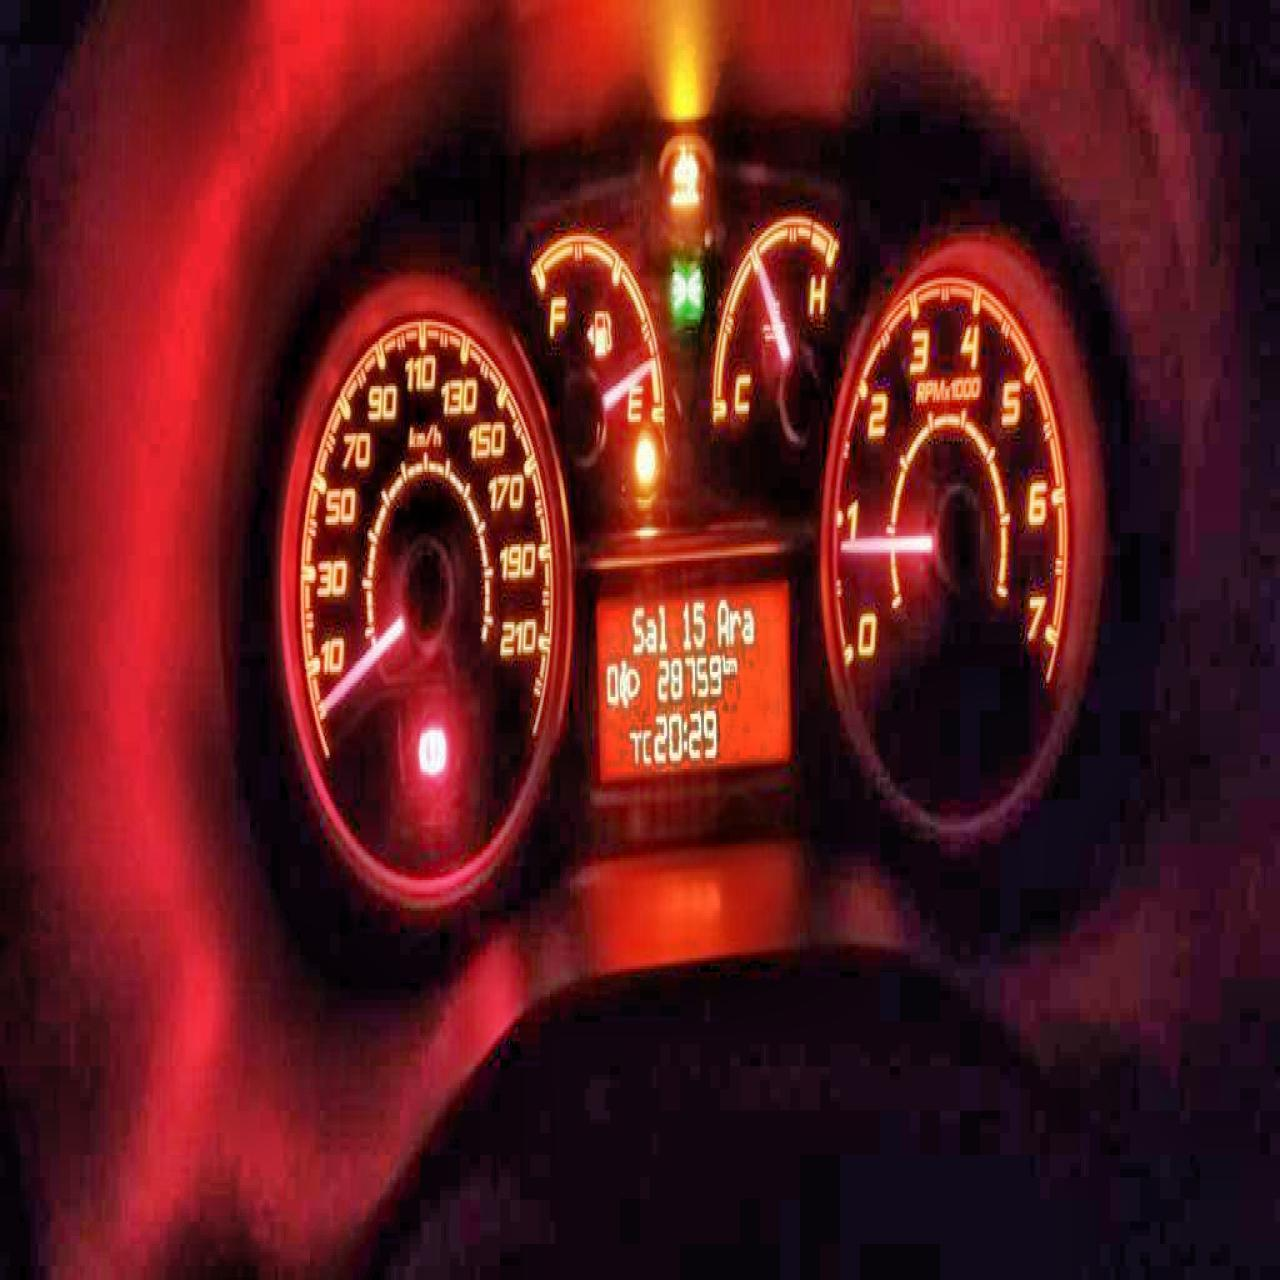0: (667, 712, 681, 761), (605, 661, 619, 702)
1: (680, 597, 690, 647)
2: (653, 712, 667, 761), (688, 708, 701, 755), (656, 655, 669, 696)
5: (692, 597, 704, 647), (696, 652, 708, 696)
7: (682, 652, 695, 696), (627, 727, 638, 761)
8: (669, 655, 682, 700)
9: (702, 704, 716, 755), (709, 653, 721, 694)
X: (629, 600, 644, 655), (716, 594, 728, 644), (741, 602, 754, 645), (658, 597, 667, 652), (644, 611, 655, 651), (729, 605, 740, 644), (641, 724, 651, 761), (682, 714, 687, 753), (722, 649, 728, 678), (728, 655, 736, 675)
odometer: (594, 574, 794, 781)
